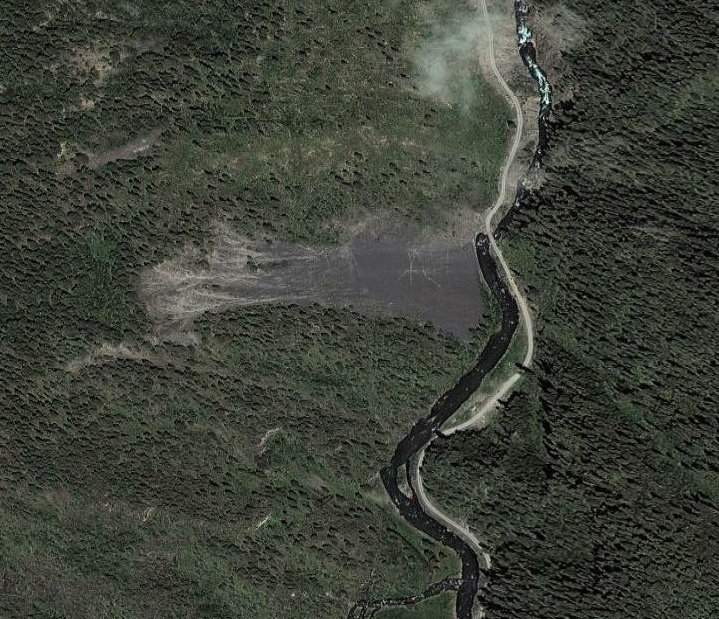slope: (127, 219, 312, 353)
